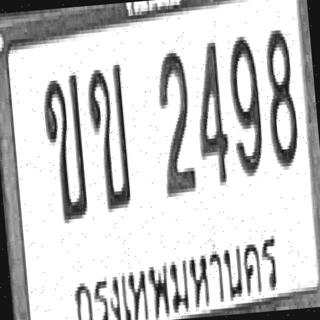A02: (40, 70, 90, 222), (84, 61, 134, 210)
N02: (154, 47, 197, 195)
N04: (190, 37, 232, 185)
N08: (260, 24, 300, 169)
N09: (224, 31, 264, 176)
P04: (66, 232, 283, 320)
